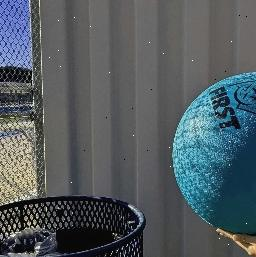algae: (169, 70, 256, 240)
